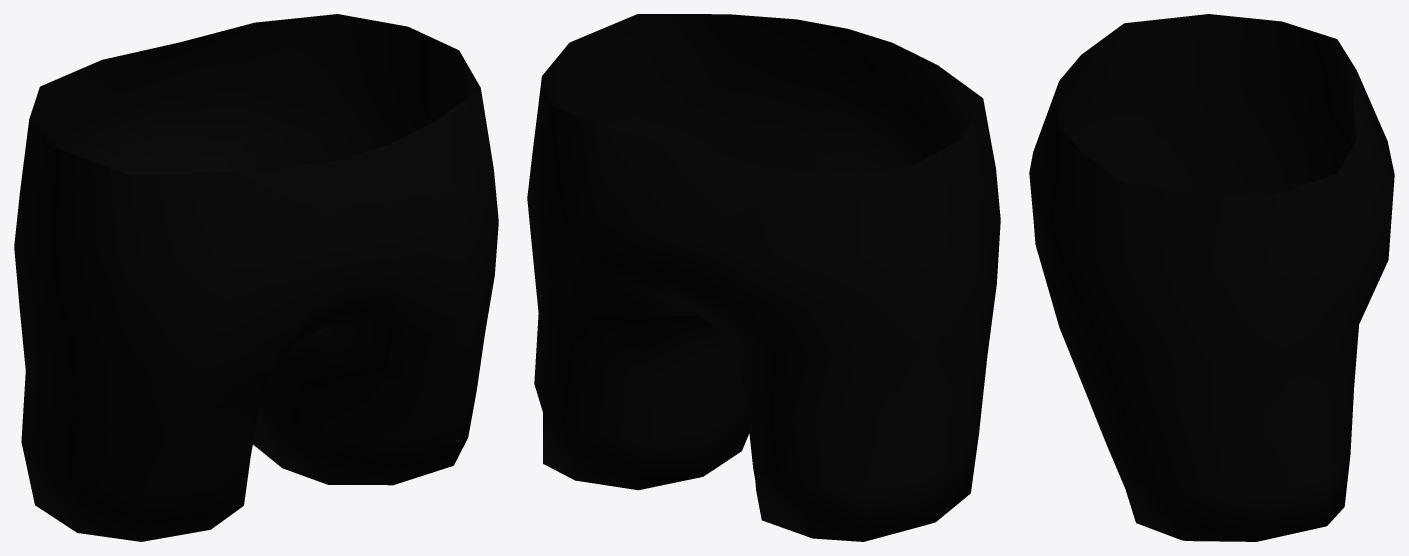
The model's file is AF_M_Trousers_07.FBX.
The picture shows the model from 3 angles, left to right: view 1: azimuth 30°, elevation 25°; view 2: azimuth 150°, elevation 25°; view 3: azimuth 270°, elevation 25°; orthographic projection. The views are drawn at different scales.
Visible parts, largest first — view 1: AF_M_Trousers_07; view 2: AF_M_Trousers_07; view 3: AF_M_Trousers_07.
Boxes of the visible parts, left/top/right/bottom form: AF_M_Trousers_07: left=14, top=14, right=498, bottom=541; AF_M_Trousers_07: left=527, top=14, right=1000, bottom=541; AF_M_Trousers_07: left=1029, top=14, right=1394, bottom=541.
Size of the model in its own units: 330 by 289 by 270.
